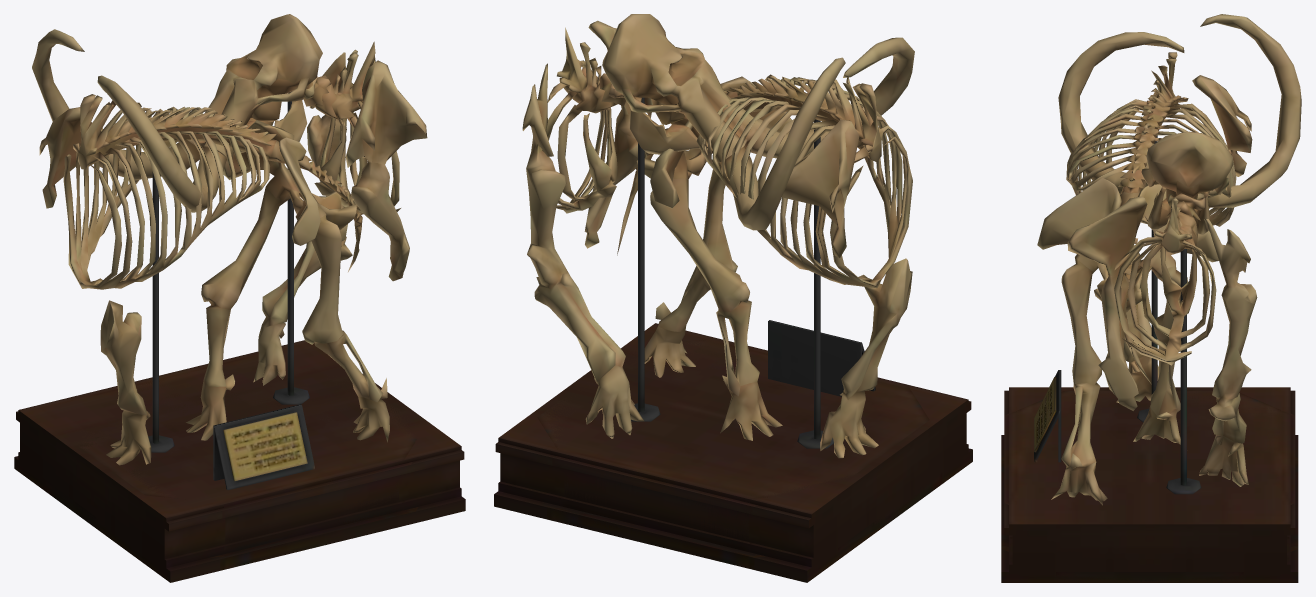
Rendered from fossil-mammoth.glb.
3 renders of one model, left to right at view 1: azimuth 30°, elevation 25°; view 2: azimuth 150°, elevation 25°; view 3: azimuth 270°, elevation 25°, orthographic. The views are drawn at different scales.
Visible parts, largest first — view 1: mFossilBaseEnd (×2), mFtrFossilMammothB, mFtrFossilMammothA; view 2: mFossilBaseEnd (×2), mFtrFossilMammothB, mFtrFossilMammothA; view 3: mFossilBaseEnd (×2), mFtrFossilMammothA, mFtrFossilMammothB.
Boxes of the visible parts, <box> form: mFossilBaseEnd (×2): <box>14,91,465,582</box>; mFtrFossilMammothB: <box>39,94,389,465</box>; mFtrFossilMammothA: <box>32,14,427,385</box>; mFossilBaseEnd (×2): <box>494,97,972,582</box>; mFtrFossilMammothB: <box>617,74,912,458</box>; mFtrFossilMammothA: <box>522,14,914,438</box>; mFossilBaseEnd (×2): <box>1001,135,1298,582</box>; mFtrFossilMammothA: <box>1058,14,1301,486</box>; mFtrFossilMammothB: <box>1037,52,1252,505</box>.
Size of the model in its own units: 20 by 29.74 by 18.53.
4 materials, 4 textured.
